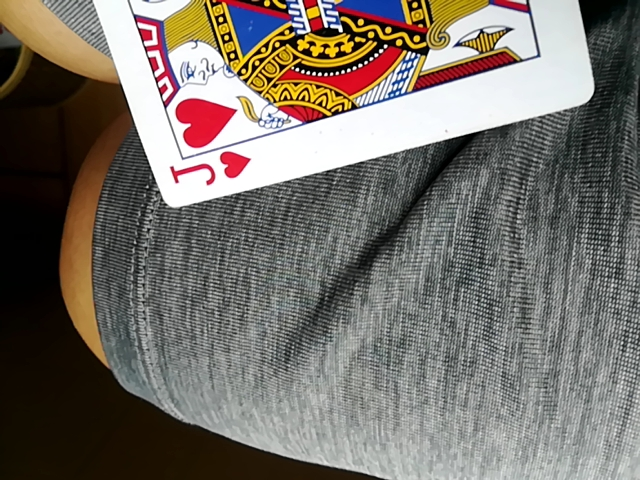hx j: (86, 1, 601, 207)
